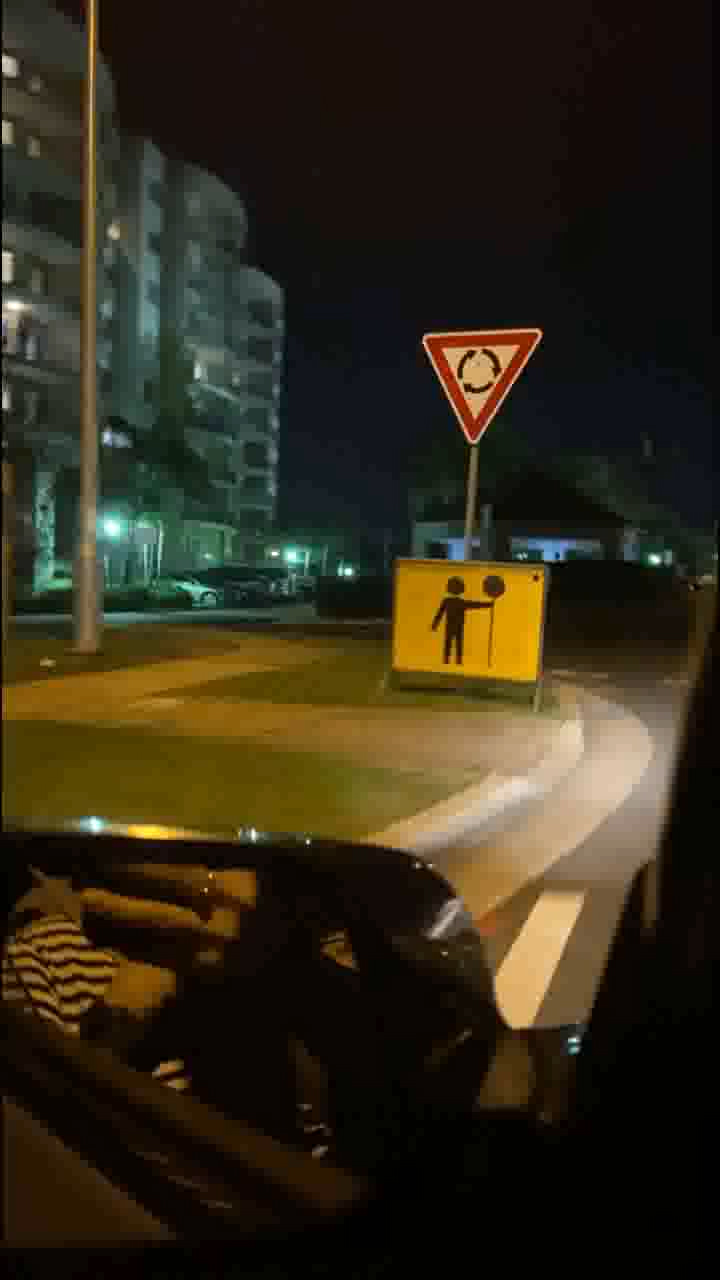prepare to stop board: (388, 554, 545, 687)
